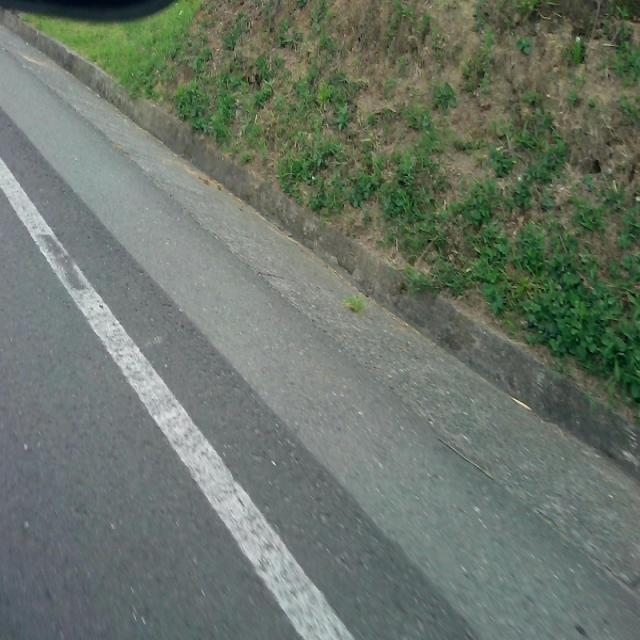DITCH: (1, 8, 638, 638), (1, 54, 638, 637)
